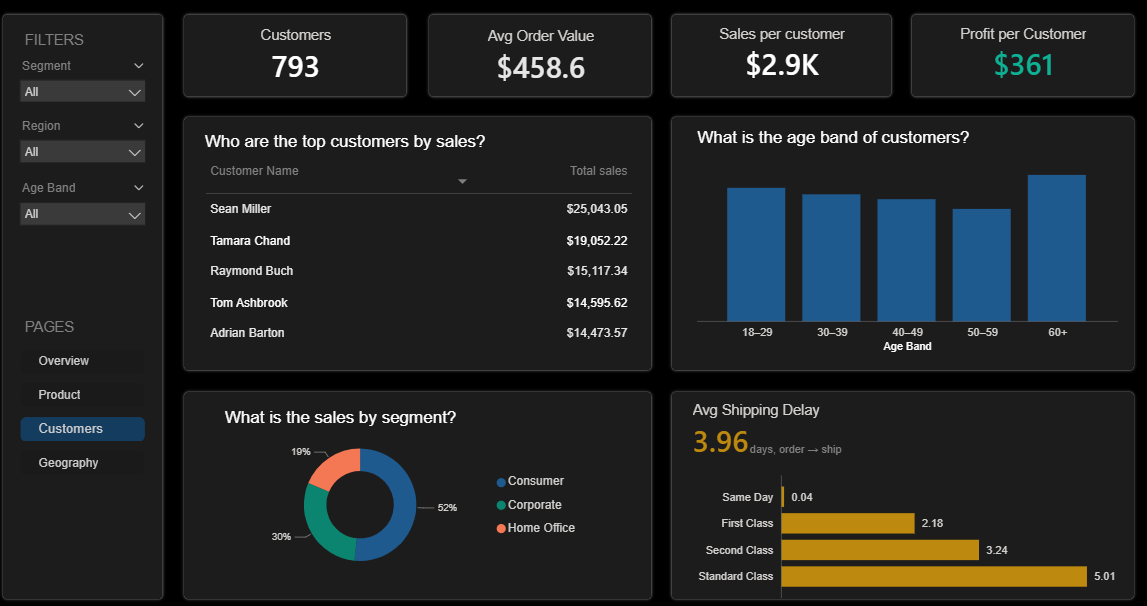

This screenshot's page, from the dashboard's own definition file:
{"tool":"powerbi","page":{"name":"Customers","canvas":[1280,720],"ordinal":2},"visuals":[{"type":"shape","box":[11,52.1,183.9,650.4],"z":0},{"type":"shape","box":[209.9,52.1,252.5,98.8],"z":1000},{"type":"shape","box":[478.9,52.1,252.5,98.8],"z":2000},{"type":"shape","box":[745.1,52.1,249.7,98.8],"z":3000},{"type":"shape","box":[1008.6,52.1,252.5,98.8],"z":4000},{"type":"slicer","fields":{"Values":["Customer_dim.Segment"]},"box":[23.3,100.2,159.2,52.1],"z":5000},{"type":"slicer","fields":{"Values":["Customer_dim.Region"]},"box":[23.3,166,159.2,59],"z":6000},{"type":"slicer","fields":{"Values":["Customer_dim.Age Band"]},"box":[23.3,234.6,159.2,60.4],"z":7000},{"type":"cardVisual","fields":{"Data":["Measures_.Total Customer"]},"box":[253.9,53.5,166,97.4],"z":8000},{"type":"cardVisual","fields":{"Data":["Measures_.Average order value (AOV)"]},"box":[522.8,54.9,166,97.4],"z":9000},{"type":"cardVisual","fields":{"Data":["Measures_.Sales per customer"]},"box":[787.7,52.1,166,97.4],"z":10000},{"type":"cardVisual","fields":{"Data":["Measures_.Profit per Customer"]},"box":[1052.5,52.1,166,97.4],"z":11000},{"type":"shape","box":[209.9,164.7,521.4,286.8],"z":12000},{"type":"shape","box":[745.1,164.7,516,286.8],"z":13000},{"type":"clusteredColumnChart","title":"What is the age band of customers?","fields":{"Category":["Customer_dim.Age Band"],"Y":["Measures_.NO of customers"]},"box":[772.6,181.1,472,251.1],"z":14000},{"type":"shape","box":[209.9,466.6,521.4,236],"z":15000},{"type":"shape","box":[745.1,466.6,516,236],"z":16000},{"type":"textbox","box":[34.3,71.4,82.3,28.8],"z":17000},{"type":"textbox","box":[34.3,385.6,82.3,28.8],"z":18000},{"type":"pageNavigator","box":[34.3,424,137.2,140],"z":19000},{"type":"tableEx","title":"Who are the top customers by sales?","fields":{"Values":["Customer_dim.Customer Name","Measures_.Total sales"]},"box":[231.4,184.9,479.8,247.3],"z":20000},{"type":"donutChart","title":"What is the sales by segment?","fields":{"Category":["Customer_dim.Segment"],"Y":["CountNonNull(Customer_dim.Segment)"]},"box":[253.9,488.5,403.4,192.1],"z":21000},{"type":"cardVisual","fields":{"Data":["Measures_.Avg Shipping Delay"]},"box":[772.6,480.3,166,67.2],"z":22000},{"type":"textbox","box":[830.2,521.4,150.9,26.1],"z":23000},{"type":"clusteredBarChart","title":"What is the age band of customers?","fields":{"Category":["Sales.Ship Mode"],"Y":["Measures_.Avg Shipping Delay"]},"box":[767.1,550.3,477.5,152.3],"z":24000}]}

Visuals, with their boxes on the page's 1280x720 design canvas (x1, y1, x2, y2). These are canvas units, not pixel positions in the 1147x606 screenshot, which may show the page scaled, cropped or inside an application window:
shape: rect(11, 52, 195, 702)
shape: rect(210, 52, 462, 151)
shape: rect(479, 52, 731, 151)
shape: rect(745, 52, 995, 151)
shape: rect(1009, 52, 1261, 151)
slicer - Customer_dim.Segment: rect(23, 100, 182, 152)
slicer - Customer_dim.Region: rect(23, 166, 182, 225)
slicer - Customer_dim.Age Band: rect(23, 235, 182, 295)
cardVisual - Measures_.Total Customer: rect(254, 54, 420, 151)
cardVisual - Measures_.Average order value (AOV): rect(523, 55, 689, 152)
cardVisual - Measures_.Sales per customer: rect(788, 52, 954, 150)
cardVisual - Measures_.Profit per Customer: rect(1052, 52, 1218, 150)
shape: rect(210, 165, 731, 452)
shape: rect(745, 165, 1261, 452)
"What is the age band of customers?" clusteredColumnChart: rect(773, 181, 1245, 432)
shape: rect(210, 467, 731, 703)
shape: rect(745, 467, 1261, 703)
textbox: rect(34, 71, 117, 100)
textbox: rect(34, 386, 117, 414)
pageNavigator: rect(34, 424, 172, 564)
"Who are the top customers by sales?" tableEx: rect(231, 185, 711, 432)
"What is the sales by segment?" donutChart: rect(254, 488, 657, 681)
cardVisual - Measures_.Avg Shipping Delay: rect(773, 480, 939, 548)
textbox: rect(830, 521, 981, 548)
"What is the age band of customers?" clusteredBarChart: rect(767, 550, 1245, 703)
